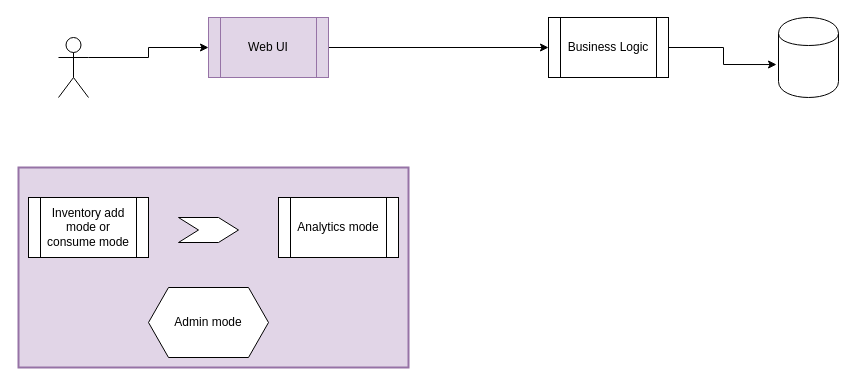
This 856x386 diagram has some shape labels left out. Here are the shapes that lost their labels. From the top down, the centre of each, then its label:
At point (73, 67): "User".
At point (808, 57): "DB".
